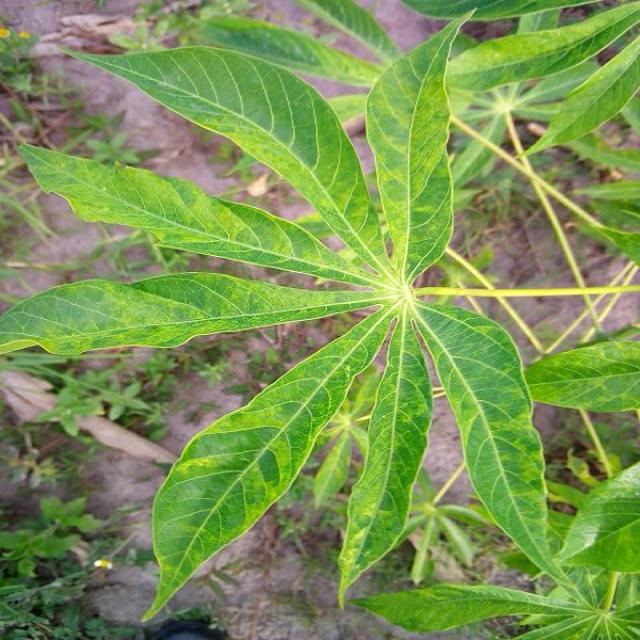cassava leaf: (2, 5, 638, 626), (142, 304, 396, 622), (58, 41, 382, 268), (365, 5, 478, 286)
